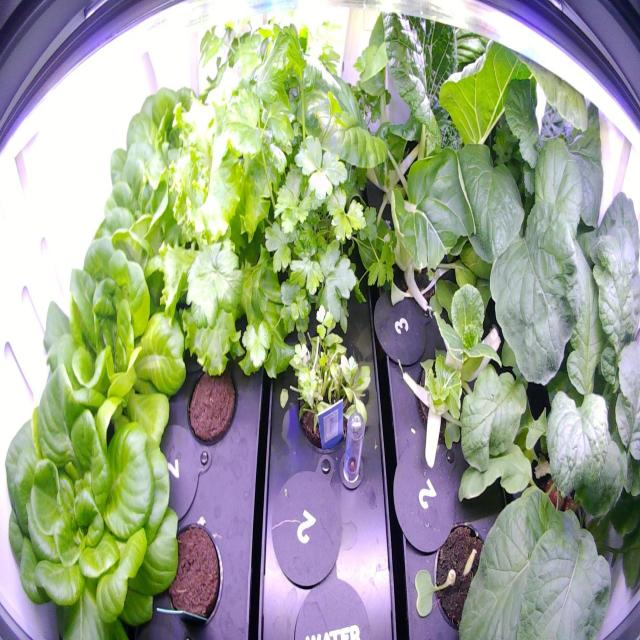Ready: (1, 362, 190, 639), (27, 224, 192, 456), (72, 140, 200, 326), (108, 64, 211, 220)
pod: (158, 505, 228, 628), (176, 344, 244, 456)
